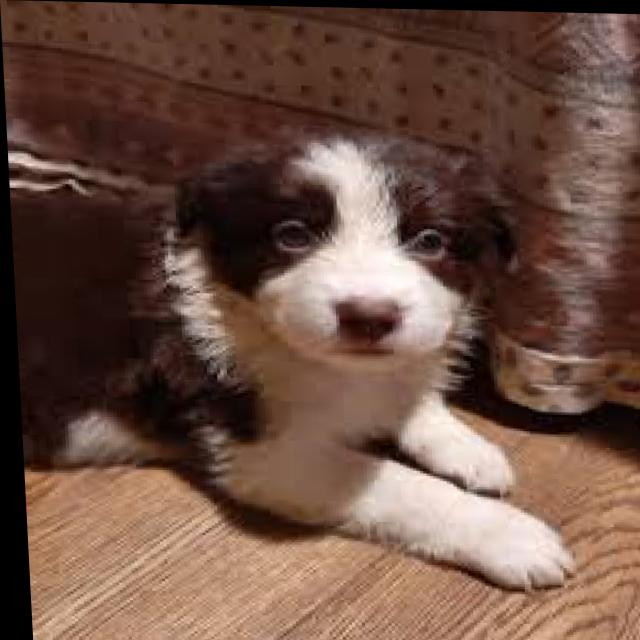BORDER_COLLIE: (5, 109, 582, 595)
